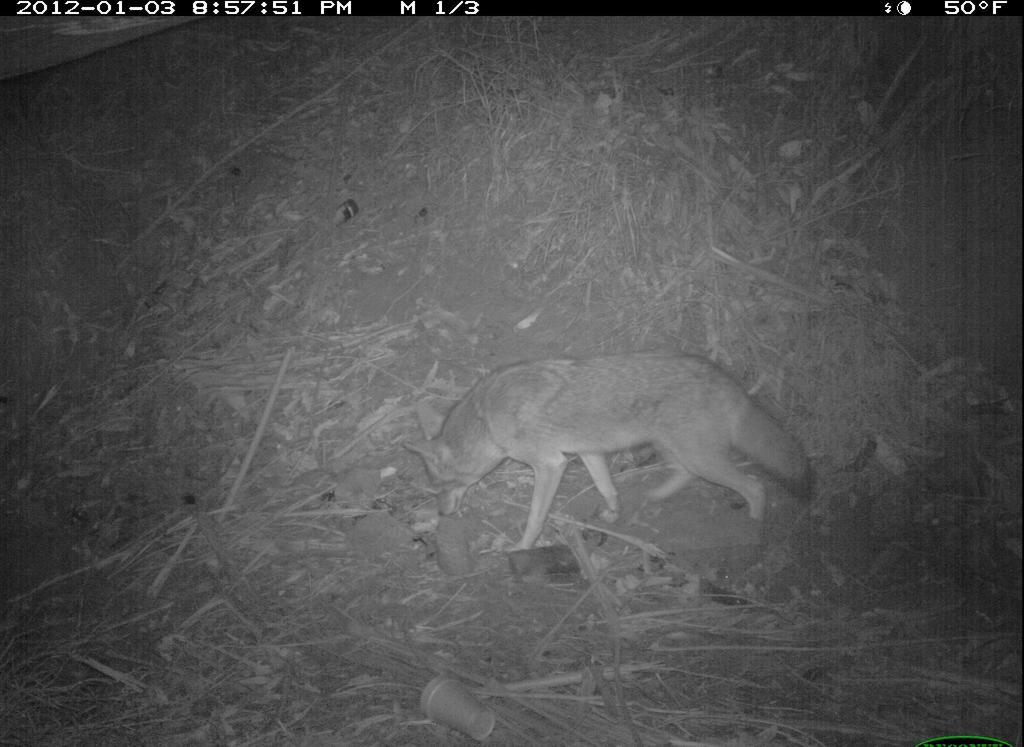coyote: (383, 337, 834, 557)
